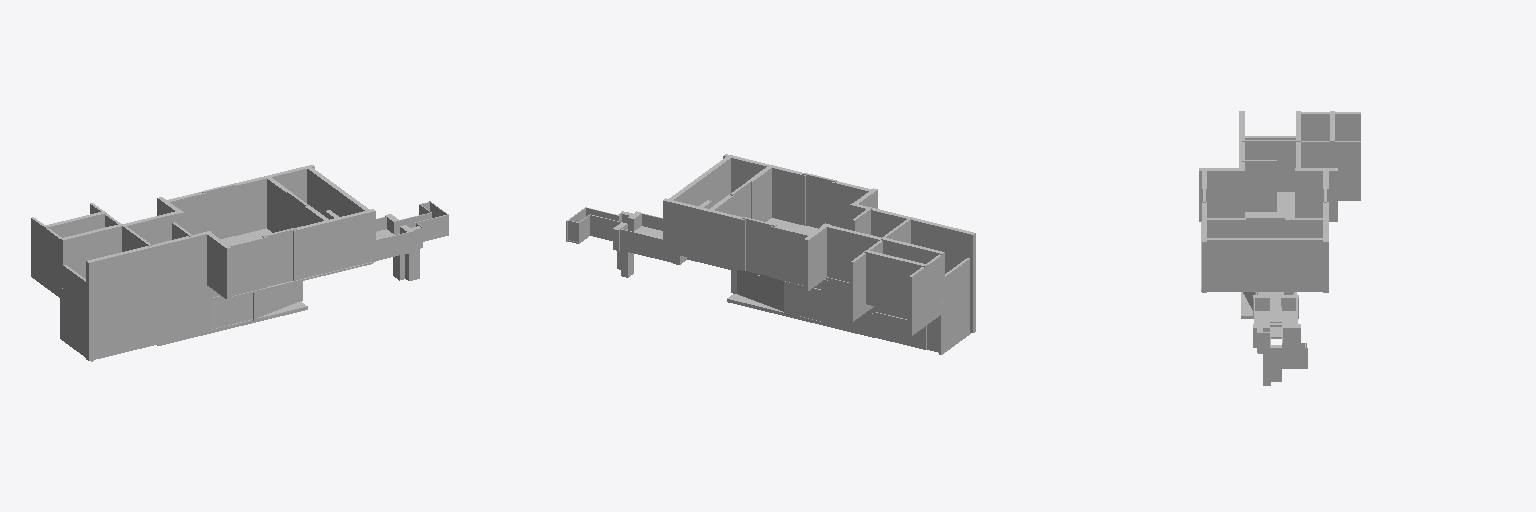
The picture shows the model from 3 angles: view 1: azimuth 30°, elevation 25°; view 2: azimuth 150°, elevation 25°; view 3: azimuth 270°, elevation 25°; orthographic projection.
Visible parts, largest first — view 1: Cube.036_Cube.037, Cube.043, Cube.051, Cube.054, mvc6, Cube.052, Cube.040_Cube.031, Cube.047, Cube.059, Cube.058, mvc9, mvc8 (+11 smaller); view 2: Cube.054, Cube.043, aa_Cube, Cube.051, Cube.038_Cube.039, Cube.040_Cube.031, Cube.047, Cube.053, Cube.042, Cube.059, mvc8, Cube.032_Cube.033 (+12 smaller); view 3: Cube.059, Cube.048, Cube.058, Cube.049, Cube.057, Cube.047, Cube.044, Cube.009_Cube.006, Cube.055, Cube.056, mvc7, Cube.043 (+2 smaller).
Boxes of the visible parts, x1,y1,x2,y2 form: Cube.036_Cube.037: [86, 282, 210, 360]; Cube.043: [86, 231, 211, 312]; Cube.051: [293, 209, 375, 280]; Cube.054: [233, 165, 314, 235]; mvc6: [61, 224, 123, 287]; Cube.052: [227, 236, 267, 295]; Cube.040_Cube.031: [60, 263, 93, 361]; Cube.047: [31, 217, 61, 297]; Cube.059: [307, 167, 369, 219]; Cube.058: [207, 233, 231, 299]; mvc9: [262, 228, 296, 286]; mvc8: [202, 183, 235, 238]; Cube.054: [663, 198, 745, 270]; Cube.043: [850, 203, 975, 285]; aa_Cube: [864, 250, 927, 317]; Cube.051: [723, 154, 805, 225]; Cube.038_Cube.039: [823, 275, 944, 353]; Cube.040_Cube.031: [939, 258, 970, 354]; Cube.047: [909, 254, 941, 335]; Cube.053: [771, 226, 809, 285]; Cube.042: [822, 224, 881, 282]; Cube.059: [669, 157, 730, 208]; mvc8: [742, 217, 776, 276]; Cube.032_Cube.033: [737, 270, 783, 311]; Cube.059: [1204, 238, 1323, 290]; Cube.048: [1301, 141, 1360, 200]; Cube.058: [1199, 168, 1238, 221]; Cube.049: [1242, 160, 1276, 211]; Cube.057: [1295, 168, 1337, 221]; Cube.047: [1301, 112, 1360, 140]; Cube.044: [1278, 140, 1297, 191]; Cube.009_Cube.006: [1269, 348, 1307, 368]; Cube.055: [1207, 218, 1246, 237]; Cube.056: [1283, 218, 1322, 237]; mvc7: [1246, 217, 1284, 237]; Cube.043: [1239, 111, 1244, 217].
Bounding box in the file's own units: 428 × 120 × 160.